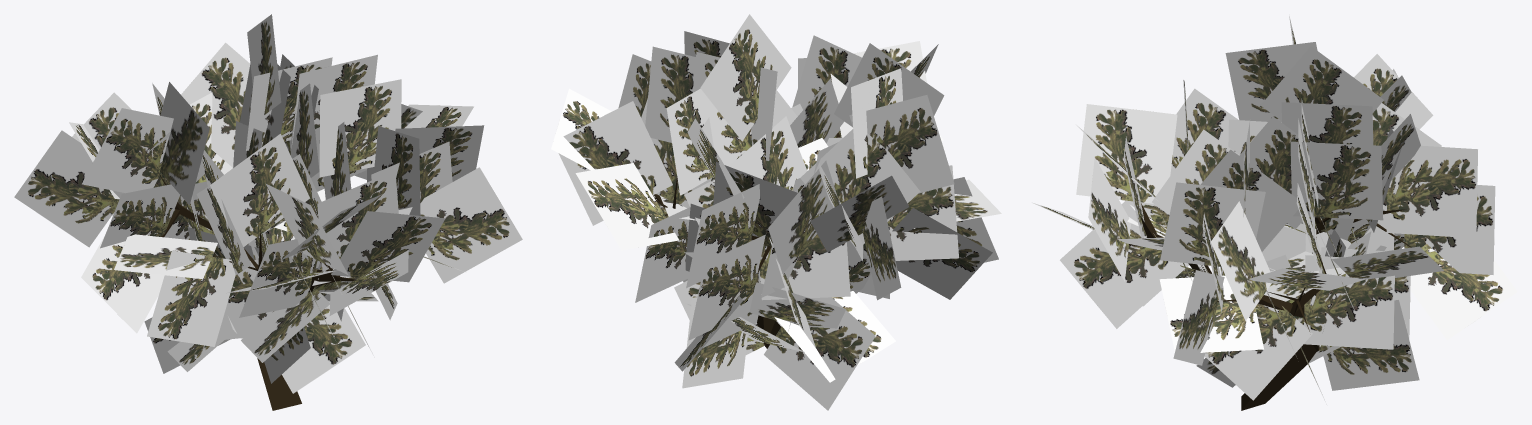
Rendered from sage.glb.
3 renders of one model, left to right at view 1: azimuth 30°, elevation 25°; view 2: azimuth 150°, elevation 25°; view 3: azimuth 270°, elevation 25°, orthographic. The views are drawn at different scales.
Parts seen in each view (by area): view 1: Leaves, Branches; view 2: Leaves, Branches; view 3: Leaves, Branches.
Part boxes in pixels (bbox=[...]): Leaves: bbox=[14, 14, 522, 393]; Branches: bbox=[158, 172, 355, 410]; Leaves: bbox=[551, 14, 1001, 410]; Branches: bbox=[654, 132, 840, 348]; Leaves: bbox=[1032, 16, 1517, 404]; Branches: bbox=[1129, 203, 1411, 410].
Size of the model in its own units: 2.99 by 2.59 by 3.12.
2 materials, 1 textured.
